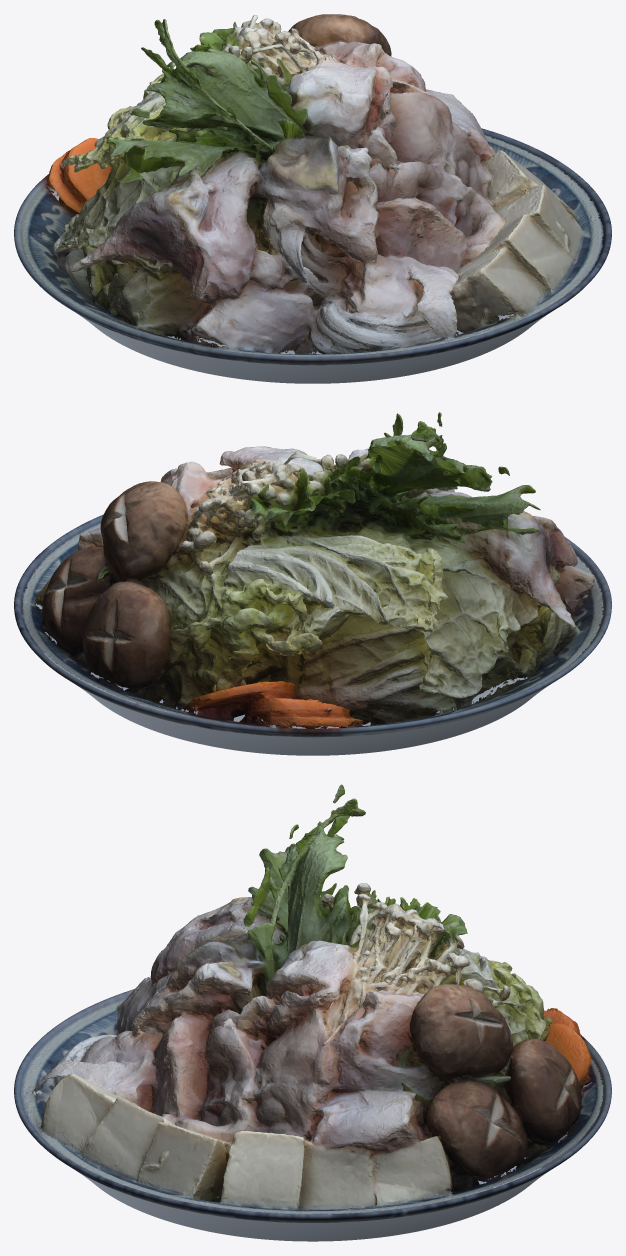
3 views of the same model, one above another, from view 1: azimuth 30°, elevation 25°; view 2: azimuth 150°, elevation 25°; view 3: azimuth 270°, elevation 25° (orthographic).
Visible parts, largest first — view 1: Food, Plate; view 2: Food, Plate; view 3: Food, Plate.
Boxes of the visible parts, x1=… form: Food: x1=22, y1=14, x2=603, y2=356; Plate: x1=14, y1=128, x2=611, y2=383; Food: x1=22, y1=412, x2=603, y2=728; Plate: x1=14, y1=514, x2=611, y2=755; Food: x1=22, y1=784, x2=603, y2=1214; Plate: x1=14, y1=989, x2=611, y2=1241.
Size of the model in its own units: 0.2529 by 0.133 by 0.2529.
Materials: 3 (2 with a texture image).
